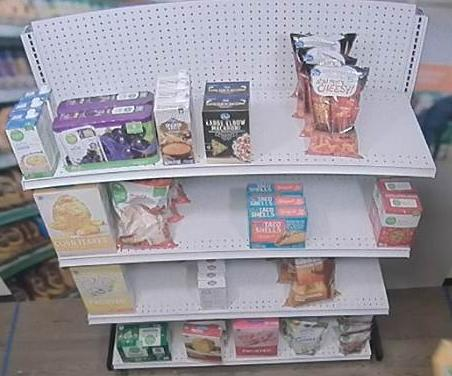stockout: (361, 70, 435, 168), (179, 177, 246, 248), (309, 177, 375, 246), (251, 78, 304, 160), (134, 262, 195, 311), (232, 260, 285, 309), (337, 260, 388, 308)
